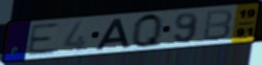4: (62, 20, 89, 53)
9: (173, 11, 199, 44)
A: (94, 17, 131, 51)
B: (200, 8, 234, 43)
E: (25, 22, 61, 57)
Q: (131, 12, 164, 50)
